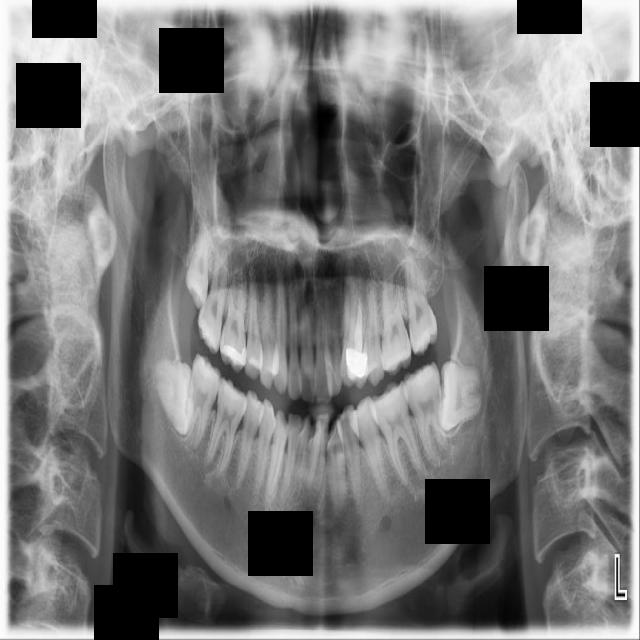3M ESPE Implant: (185, 219, 210, 310)
52: (216, 324, 251, 374), (345, 341, 368, 389)
73: (348, 282, 367, 348), (615, 606, 624, 614)
BioHorizons Implant: (403, 249, 439, 357)
Biomet 3i Implant: (437, 360, 483, 433)
Blue Sky Bio Implant: (399, 360, 453, 467)
Caries: (192, 245, 235, 355)
Implant: (181, 352, 225, 452)
Keystone Dental Implant: (153, 357, 198, 437)
